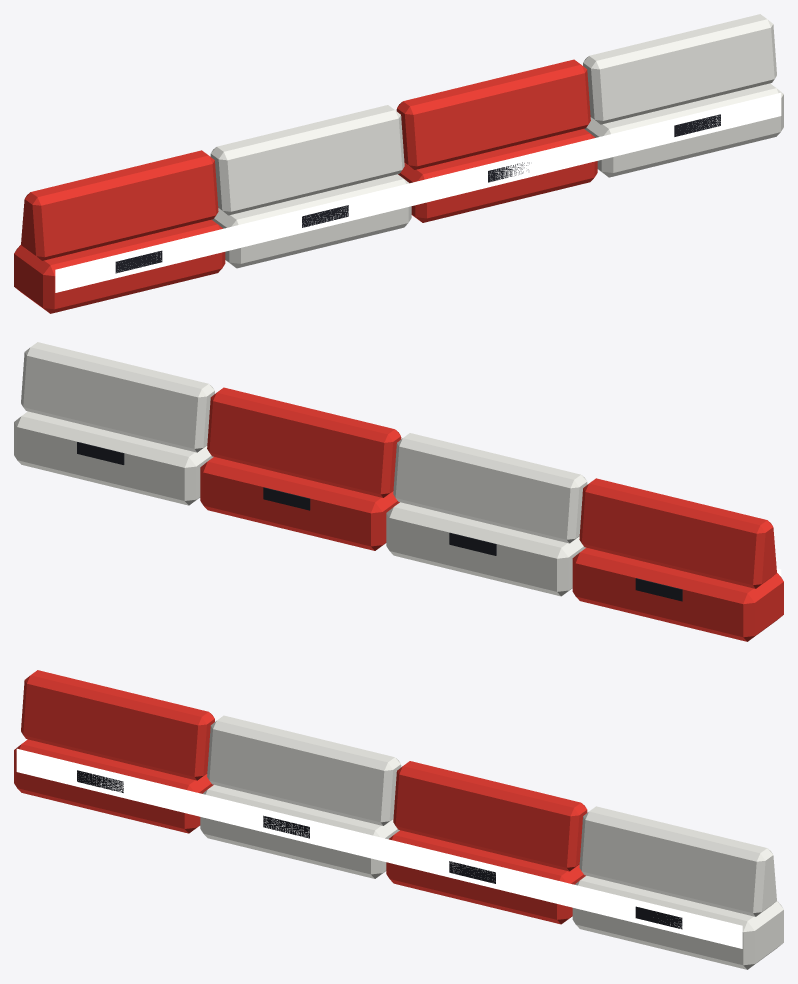
Rendered from barrier.glb.
The picture shows the model from 3 angles, top to bottom: view 1: azimuth 30°, elevation 25°; view 2: azimuth 150°, elevation 25°; view 3: azimuth 330°, elevation 25°; orthographic projection.
Visible parts, largest first — view 1: barrier; view 2: barrier; view 3: barrier.
Boxes of the visible parts, x1,y1,x2,y2 form: barrier: (14,14,783,313); barrier: (14,342,783,641); barrier: (14,670,783,969).
Size of the model in its own units: 7.96 by 1.12 by 0.72.
2 materials, 1 textured.
